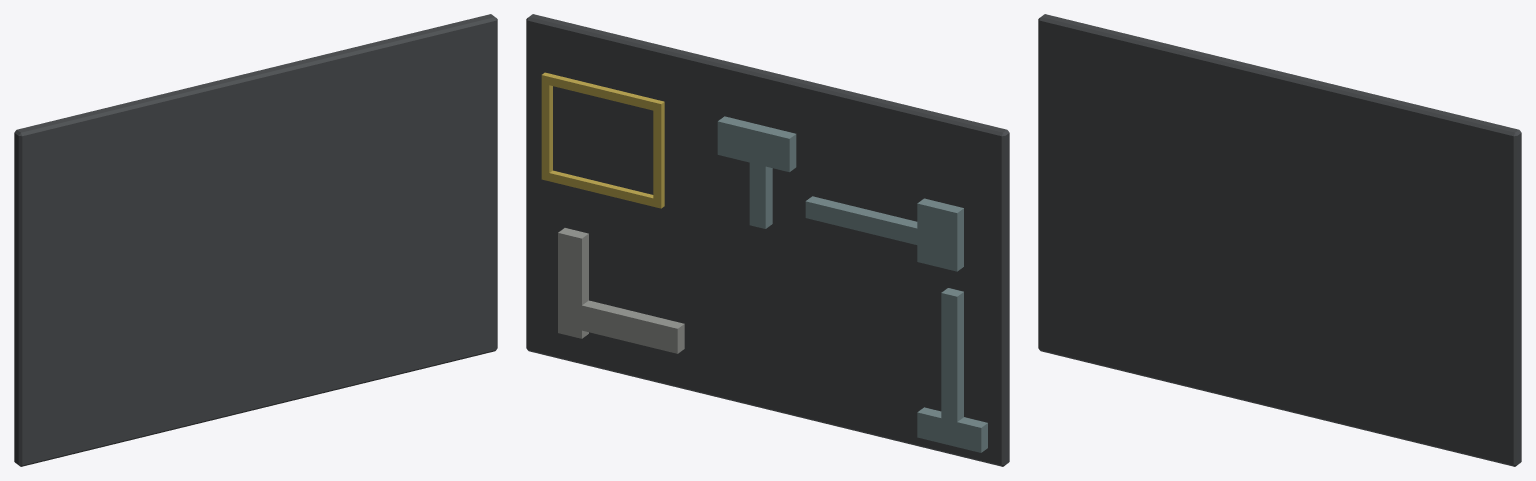
Rendered from tool_pegboard.glb.
The picture shows the model from 3 angles, left to right: view 1: azimuth 30°, elevation 25°; view 2: azimuth 150°, elevation 25°; view 3: azimuth 330°, elevation 25°; orthographic projection.
Parts seen in each view (by area): view 1: tool_pegboard; view 2: tool_pegboard; view 3: tool_pegboard.
Boxes of the visible parts, <box> form: tool_pegboard: <box>14,14,497,466</box>; tool_pegboard: <box>526,14,1009,466</box>; tool_pegboard: <box>1038,14,1521,466</box>.
Size of the model in its own units: 1.2 by 0.8 by 0.06.
